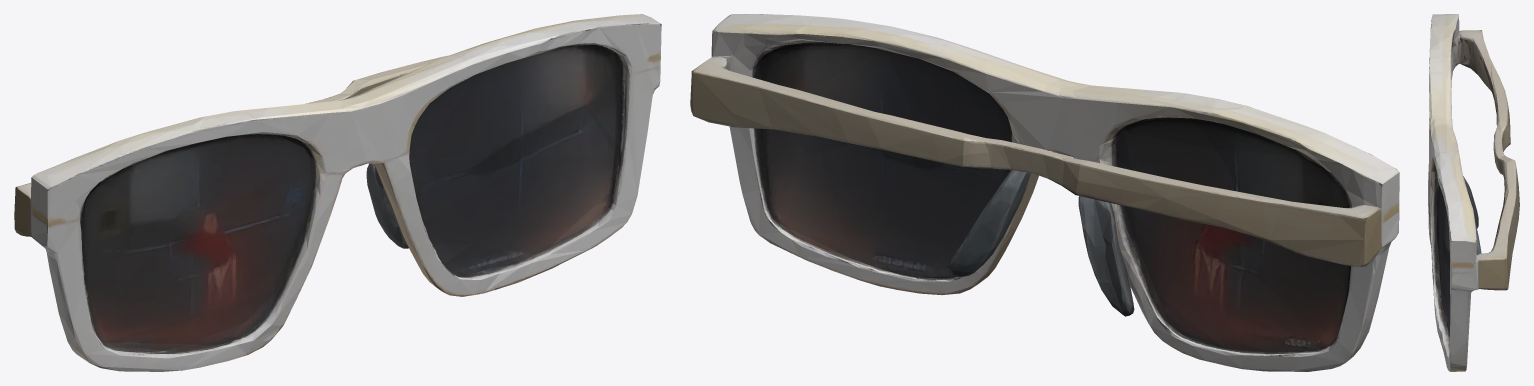
Rendered from white_glasses2.glb.
3 views of the same model, side by side, from view 1: azimuth 30°, elevation 25°; view 2: azimuth 150°, elevation 25°; view 3: azimuth 270°, elevation 25° (orthographic). The views are drawn at different scales.
Parts seen in each view (by area): view 1: geometry_0; view 2: geometry_0; view 3: geometry_0.
Boxes of the visible parts, bbox=[...] form: geometry_0: bbox=[14, 14, 661, 371]; geometry_0: bbox=[690, 14, 1399, 371]; geometry_0: bbox=[1428, 14, 1519, 371].
Bounding box in the file's own units: 0.9976 × 0.3667 × 0.1684.
1 material, 1 textured.
